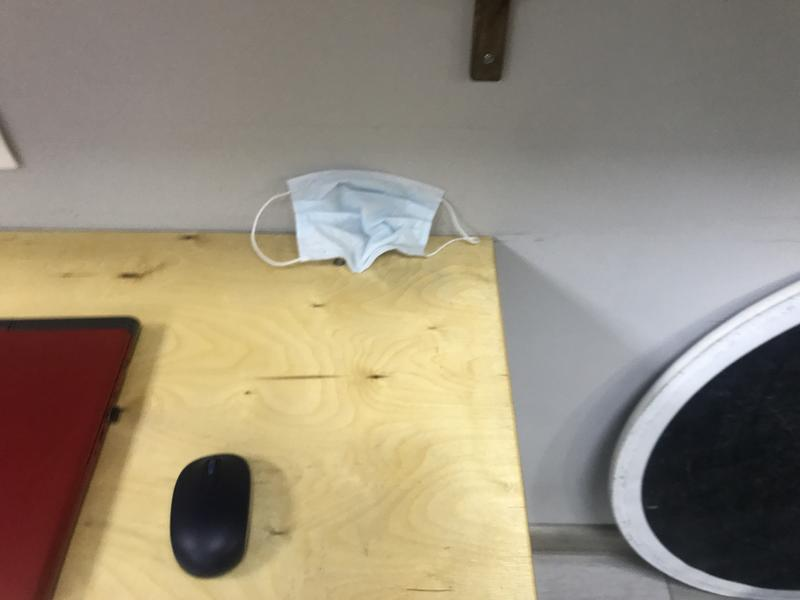medical_mask: (250, 171, 479, 273)
